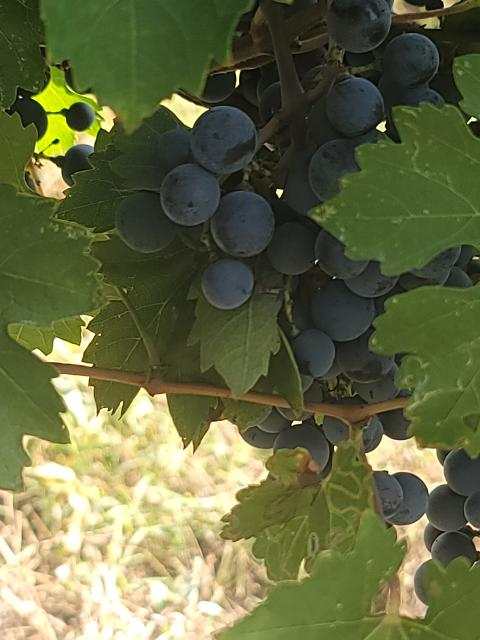grapes: (115, 34, 470, 404)
